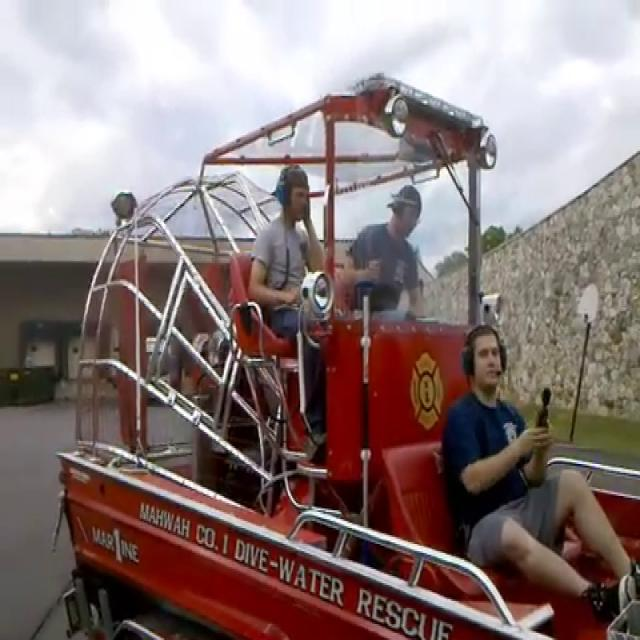earmuff: (459, 346, 475, 381), (272, 179, 290, 210), (497, 340, 510, 372)
